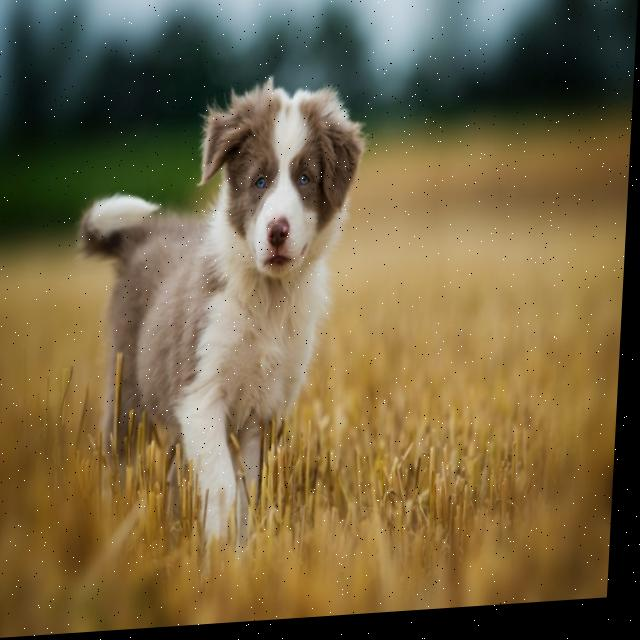BORDER_COLLIE: (51, 38, 387, 568)
